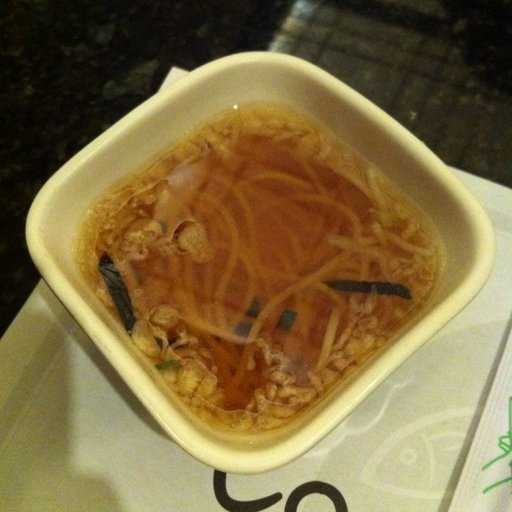soup: (52, 88, 439, 450)
